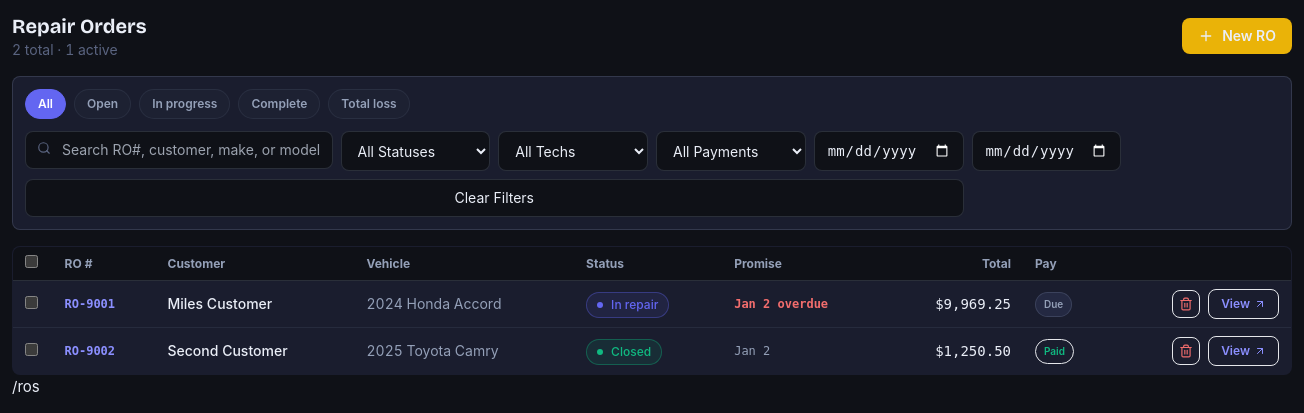
Test: Repair Orders redesign › shows promise, server-cents total, payment state, and filter chips
The width and height of the screenshot is (1304, 413).
Expected: the text "RO-9001" is shown, 64,296 -> 115,312
Expected: the column heading "Promise" is shown, 722,246 -> 885,280
Click the button "Open" at (103, 104), box 74,89 -> 131,119
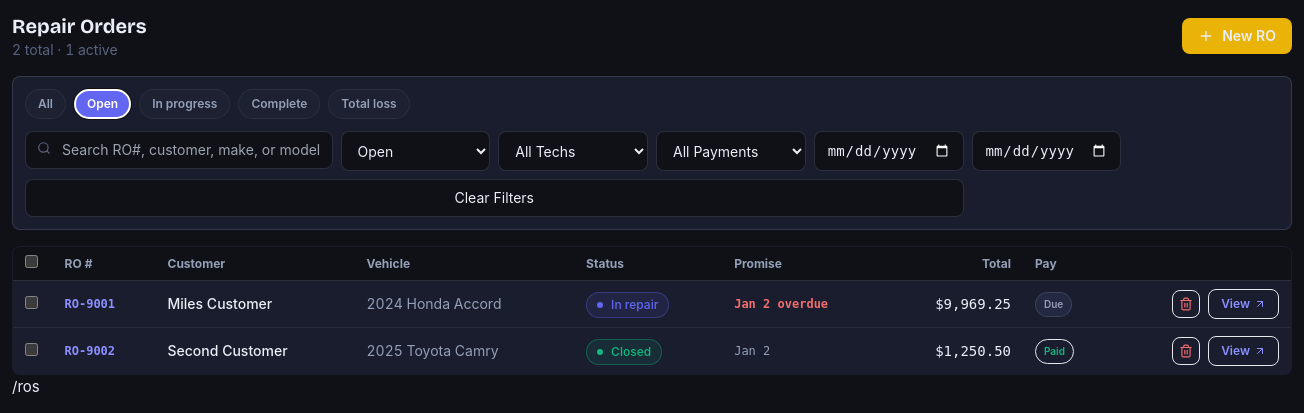
Click the button "View" in the row of "RO-9001" at (1244, 304), box 1208,289 -> 1279,319
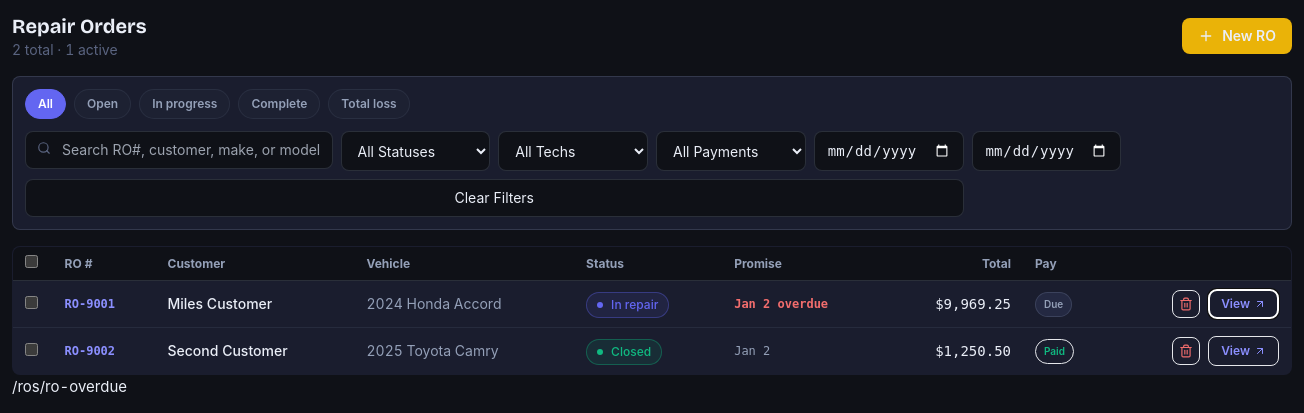
Expected: the text with test id "location" reads "/ros/ro-overdue", 12,377 -> 127,396
